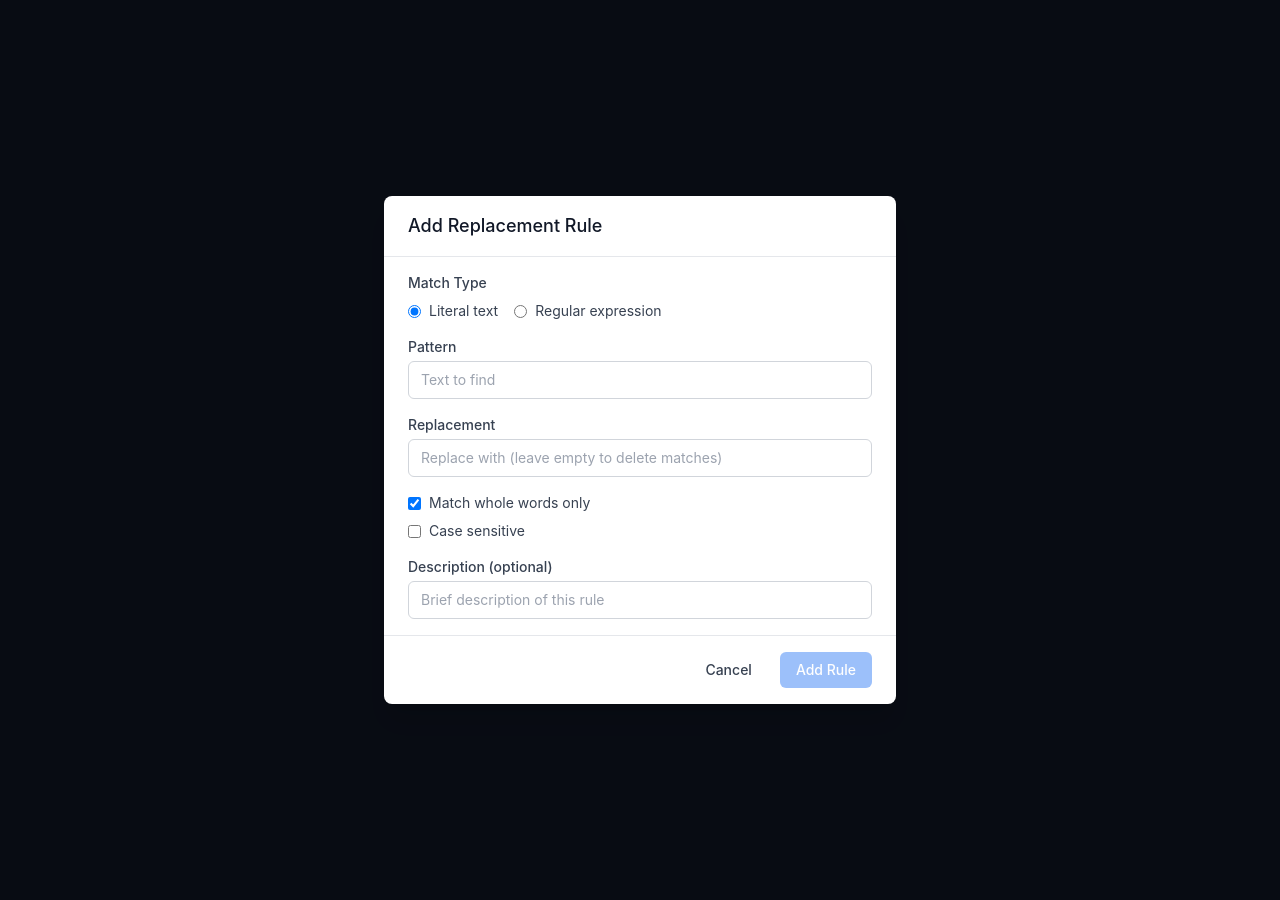
Test: ReplacementEditor › shows valid regex feedback
// Switch to regex mode
Click the radio button labelled "Regular expression".
click(521, 311)  # box [514,304,527,318]
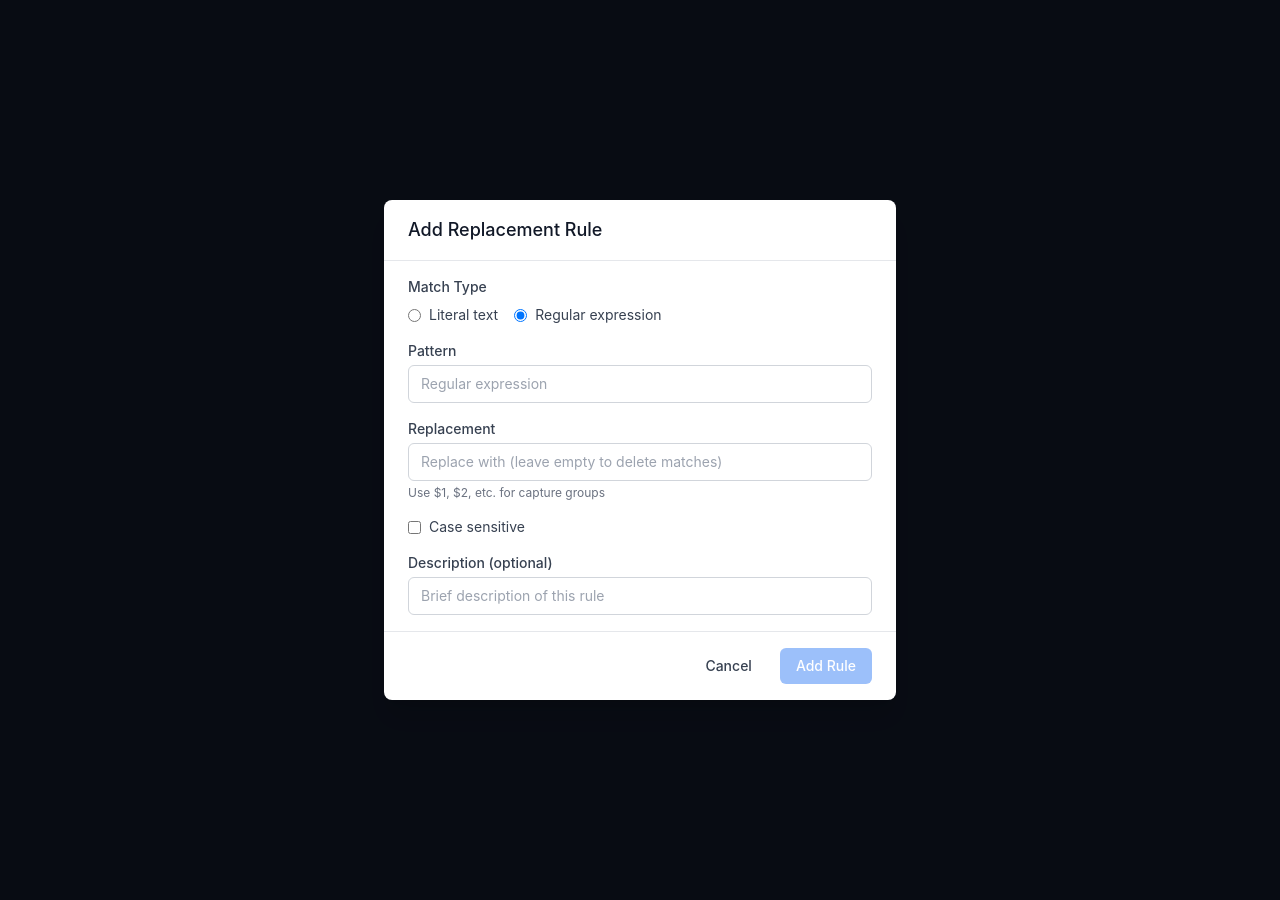
// Enter valid regex
Type "\\btest\\b" into the field with placeholder "Regular expression".
click(640, 384); type("\\btest\\b")  # box [408,365,872,403]
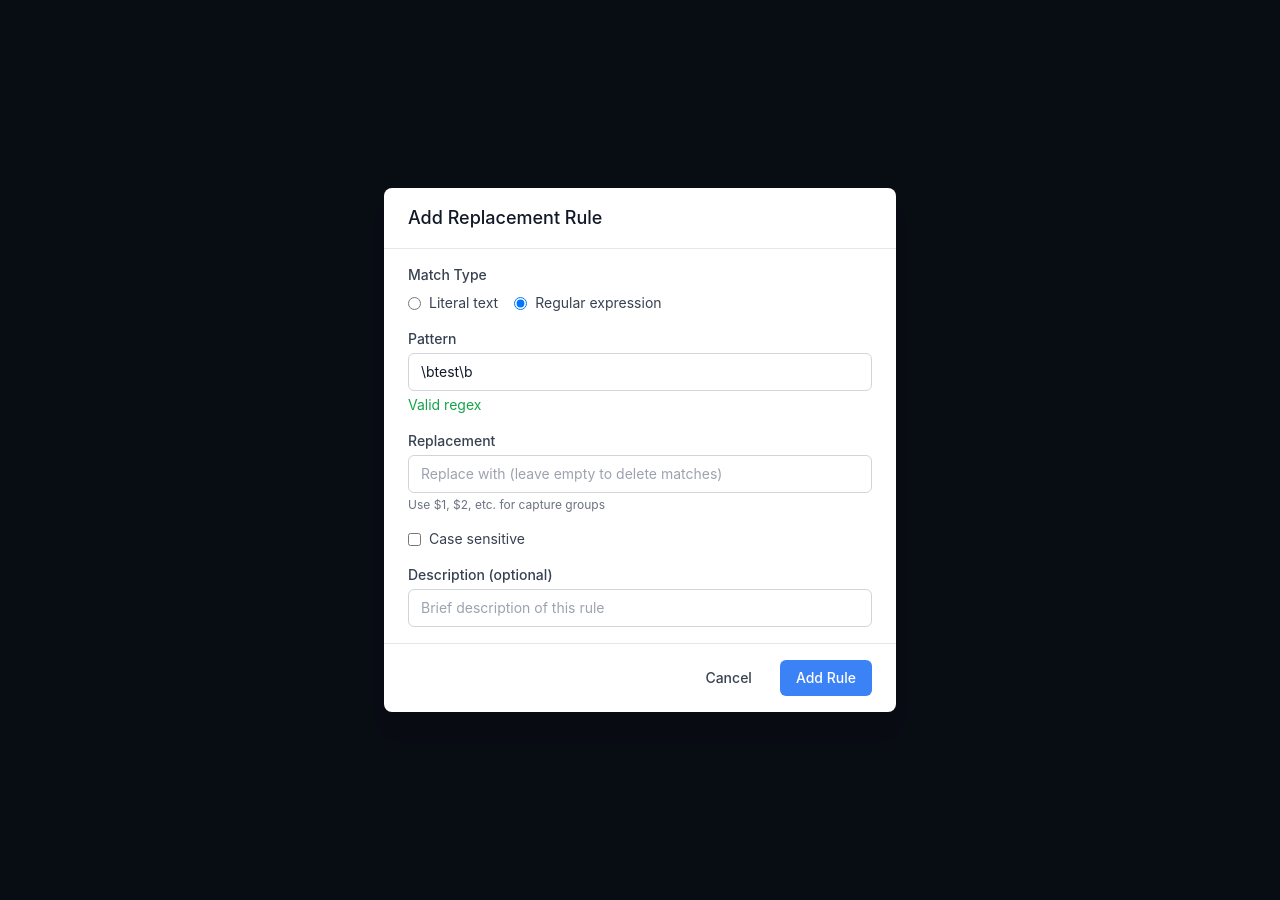
Expected: the text "Valid regex" is shown, [408,396,481,413]
